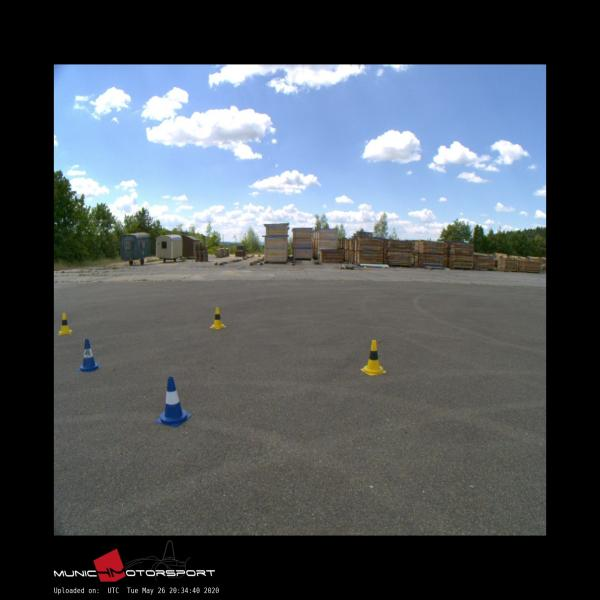blue_cone: (157, 376, 191, 426), (77, 339, 99, 371)
yellow_cone: (360, 340, 386, 374), (209, 308, 225, 328), (57, 313, 72, 334)
